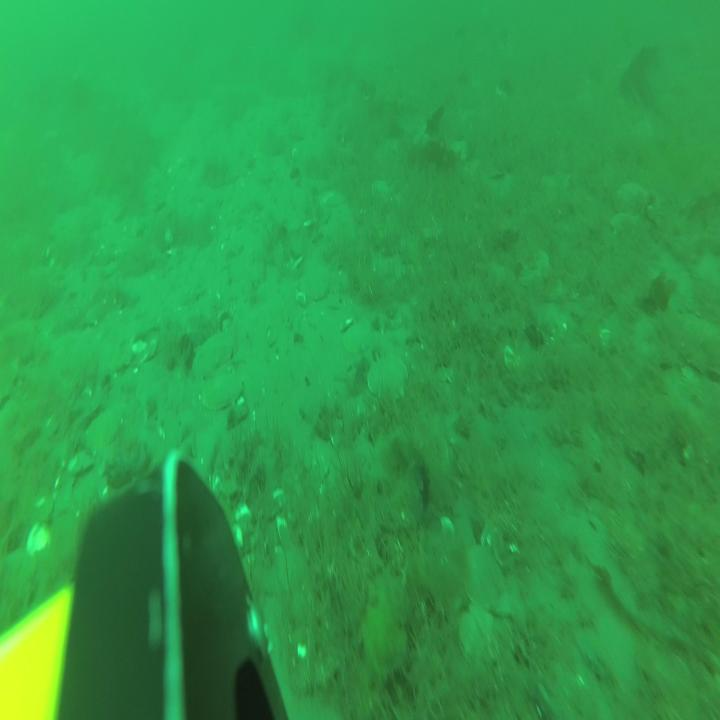scallop: (463, 542, 502, 609), (459, 603, 493, 665), (367, 356, 407, 408), (194, 326, 236, 375), (202, 368, 247, 410), (520, 248, 550, 287), (305, 265, 331, 302), (345, 322, 373, 355), (610, 210, 640, 239), (617, 182, 648, 210)
